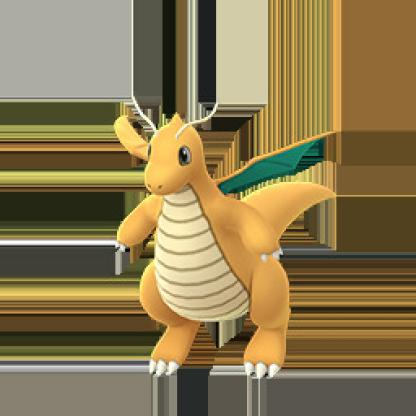Dragonite: (111, 126, 331, 399)
